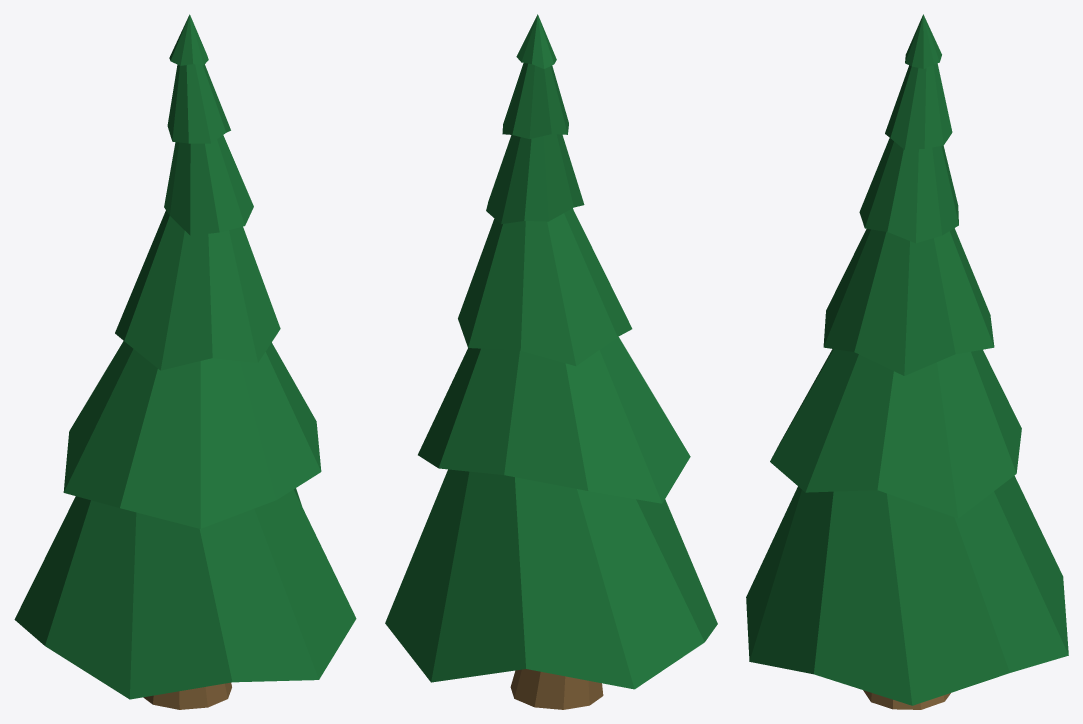
File: Pine2.fbx
3 renders of one model, left to right at view 1: azimuth 30°, elevation 25°; view 2: azimuth 150°, elevation 25°; view 3: azimuth 270°, elevation 25°, orthographic.
Visible parts, largest first — view 1: Cylinder; view 2: Cylinder; view 3: Cylinder.
Boxes of the visible parts, x1=… form: Cylinder: x1=14, y1=14, x2=356, y2=709; Cylinder: x1=385, y1=14, x2=717, y2=709; Cylinder: x1=746, y1=14, x2=1068, y2=709.
Size of the model in its own units: 258 by 566 by 243.
